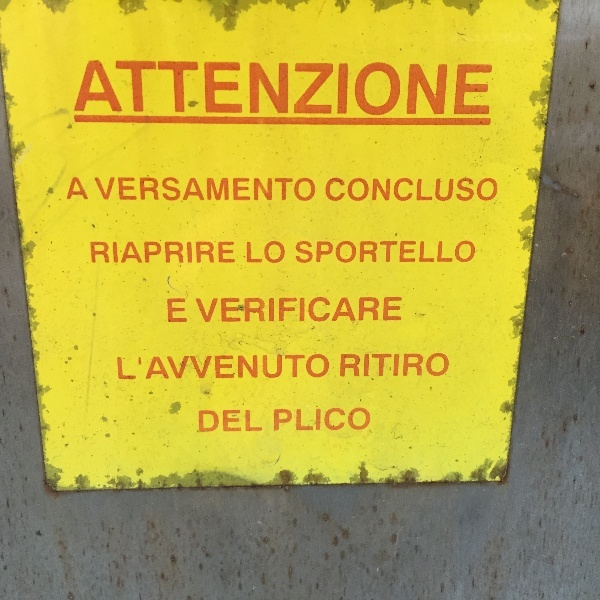text: (81, 53, 96, 118), (97, 53, 112, 118), (113, 53, 128, 118), (129, 53, 144, 118), (145, 53, 160, 118), (161, 53, 176, 118), (177, 53, 192, 118), (193, 53, 208, 118), (209, 53, 224, 118), (225, 53, 240, 118), (241, 53, 256, 118), (257, 53, 272, 118), (273, 53, 288, 118), (289, 53, 304, 118), (305, 53, 320, 118), (321, 53, 336, 118), (337, 53, 352, 118), (353, 53, 368, 118), (369, 53, 384, 118), (385, 53, 400, 118), (401, 53, 416, 118), (417, 53, 432, 118), (433, 53, 448, 118), (449, 53, 464, 118), (465, 53, 480, 118), (481, 53, 494, 118), (129, 354, 144, 385), (145, 354, 160, 385), (161, 354, 176, 385), (177, 354, 192, 385), (193, 354, 208, 385), (209, 354, 224, 385), (225, 354, 240, 385), (241, 354, 256, 385), (257, 354, 272, 385), (273, 354, 288, 385), (289, 354, 304, 385), (305, 354, 320, 385), (289, 406, 304, 436), (305, 406, 320, 436), (321, 406, 336, 436), (337, 406, 352, 436), (353, 406, 368, 436), (305, 237, 320, 266), (321, 237, 336, 266), (337, 237, 352, 266), (353, 237, 368, 266), (369, 237, 384, 266), (385, 237, 400, 266), (401, 237, 416, 266), (417, 237, 432, 266), (433, 237, 448, 266), (449, 237, 464, 266), (65, 175, 80, 203), (97, 176, 112, 204), (113, 176, 128, 204), (129, 176, 144, 204), (145, 176, 160, 204), (161, 176, 176, 204), (177, 176, 192, 204), (193, 176, 208, 204), (209, 176, 224, 204), (225, 176, 240, 204), (241, 176, 256, 204), (257, 176, 272, 204), (273, 176, 288, 204), (289, 176, 304, 204), (209, 297, 224, 325), (225, 297, 240, 325), (241, 297, 256, 325), (257, 297, 272, 325), (273, 297, 288, 325), (289, 297, 304, 325), (305, 297, 320, 325), (321, 297, 336, 325), (337, 297, 352, 325), (353, 297, 368, 325), (369, 297, 384, 325), (385, 297, 400, 325), (209, 409, 224, 437), (225, 409, 240, 437), (241, 409, 256, 437), (274, 406, 288, 436), (337, 176, 352, 203), (353, 176, 368, 203), (369, 176, 384, 203), (385, 176, 400, 203), (401, 176, 416, 203), (417, 176, 432, 203), (433, 176, 448, 203), (449, 176, 464, 203), (465, 176, 480, 203), (481, 176, 496, 203), (74, 53, 80, 118), (257, 240, 272, 266), (97, 239, 112, 265), (113, 239, 128, 265), (129, 239, 144, 265), (145, 239, 160, 265), (161, 239, 176, 265), (177, 239, 192, 265), (193, 239, 208, 265), (209, 239, 224, 265), (353, 354, 368, 380), (369, 354, 384, 380), (385, 354, 400, 380), (401, 354, 416, 380), (417, 354, 432, 380), (433, 354, 448, 380), (116, 354, 128, 385), (177, 296, 188, 327), (273, 240, 286, 266), (305, 176, 317, 204), (196, 297, 208, 325), (465, 237, 476, 266), (340, 354, 352, 380), (166, 296, 176, 327), (325, 176, 336, 203), (225, 239, 236, 265), (198, 409, 208, 437), (321, 354, 330, 385), (246, 240, 256, 266), (296, 237, 304, 266), (81, 175, 89, 203), (257, 409, 265, 437), (92, 239, 96, 265), (369, 406, 372, 436), (497, 176, 499, 203), (95, 176, 96, 204), (401, 297, 402, 325), (449, 354, 450, 380)
